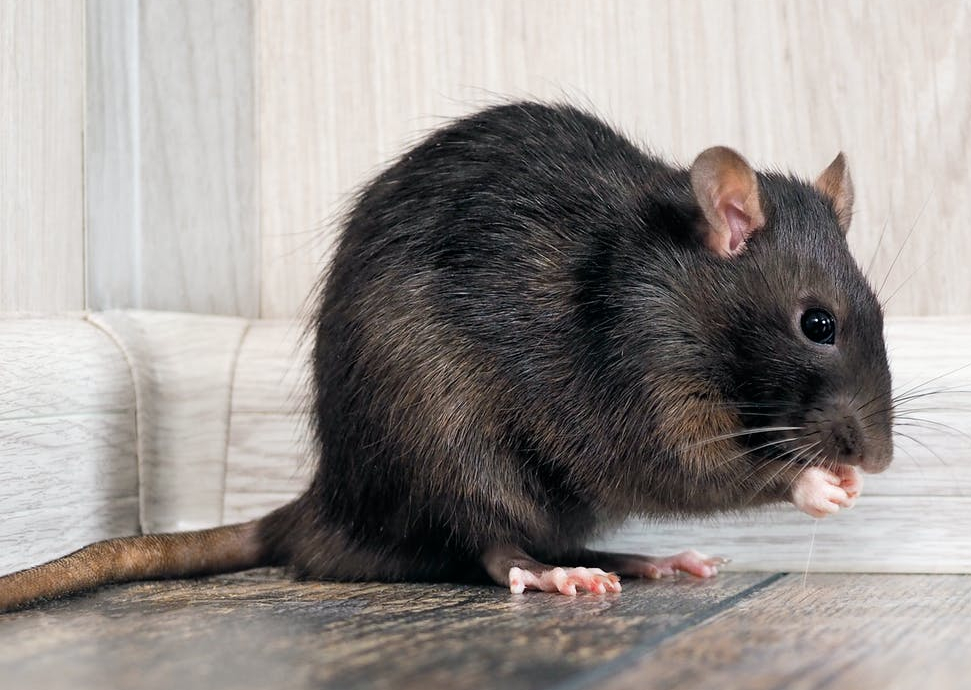rat: (191, 89, 930, 611)
